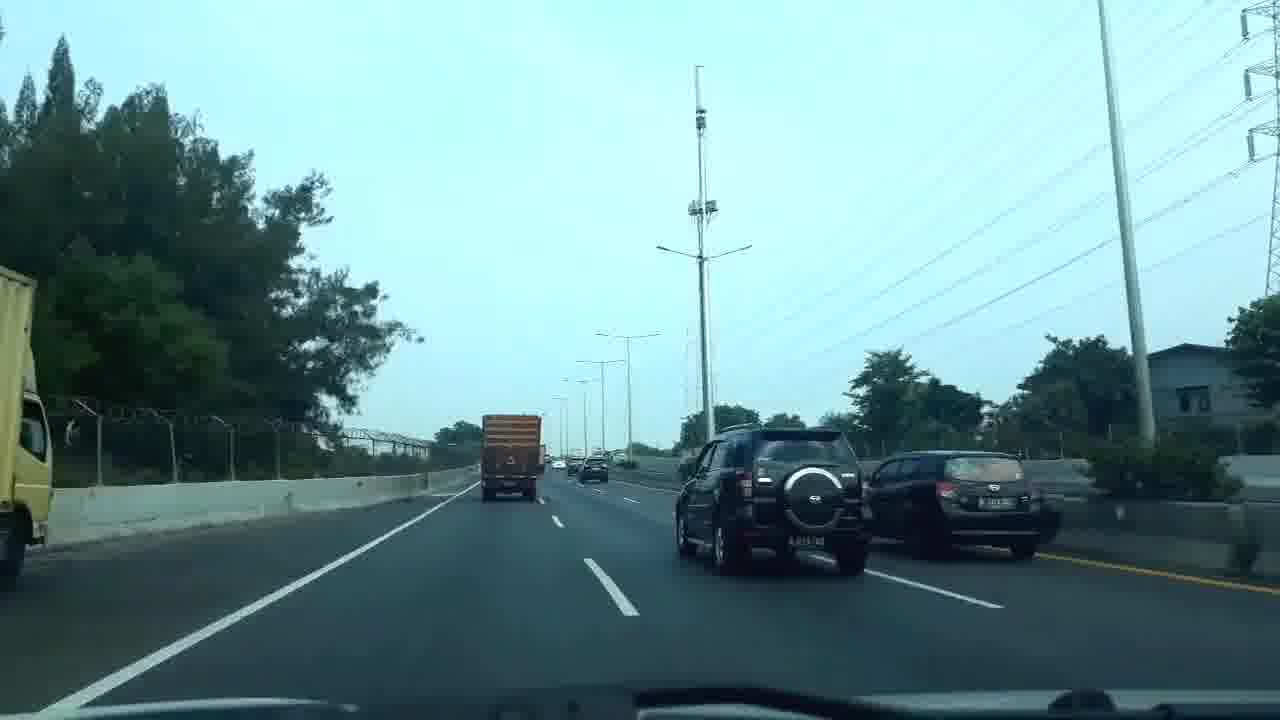plate_positive: (786, 535, 825, 550), (976, 496, 1017, 510)
